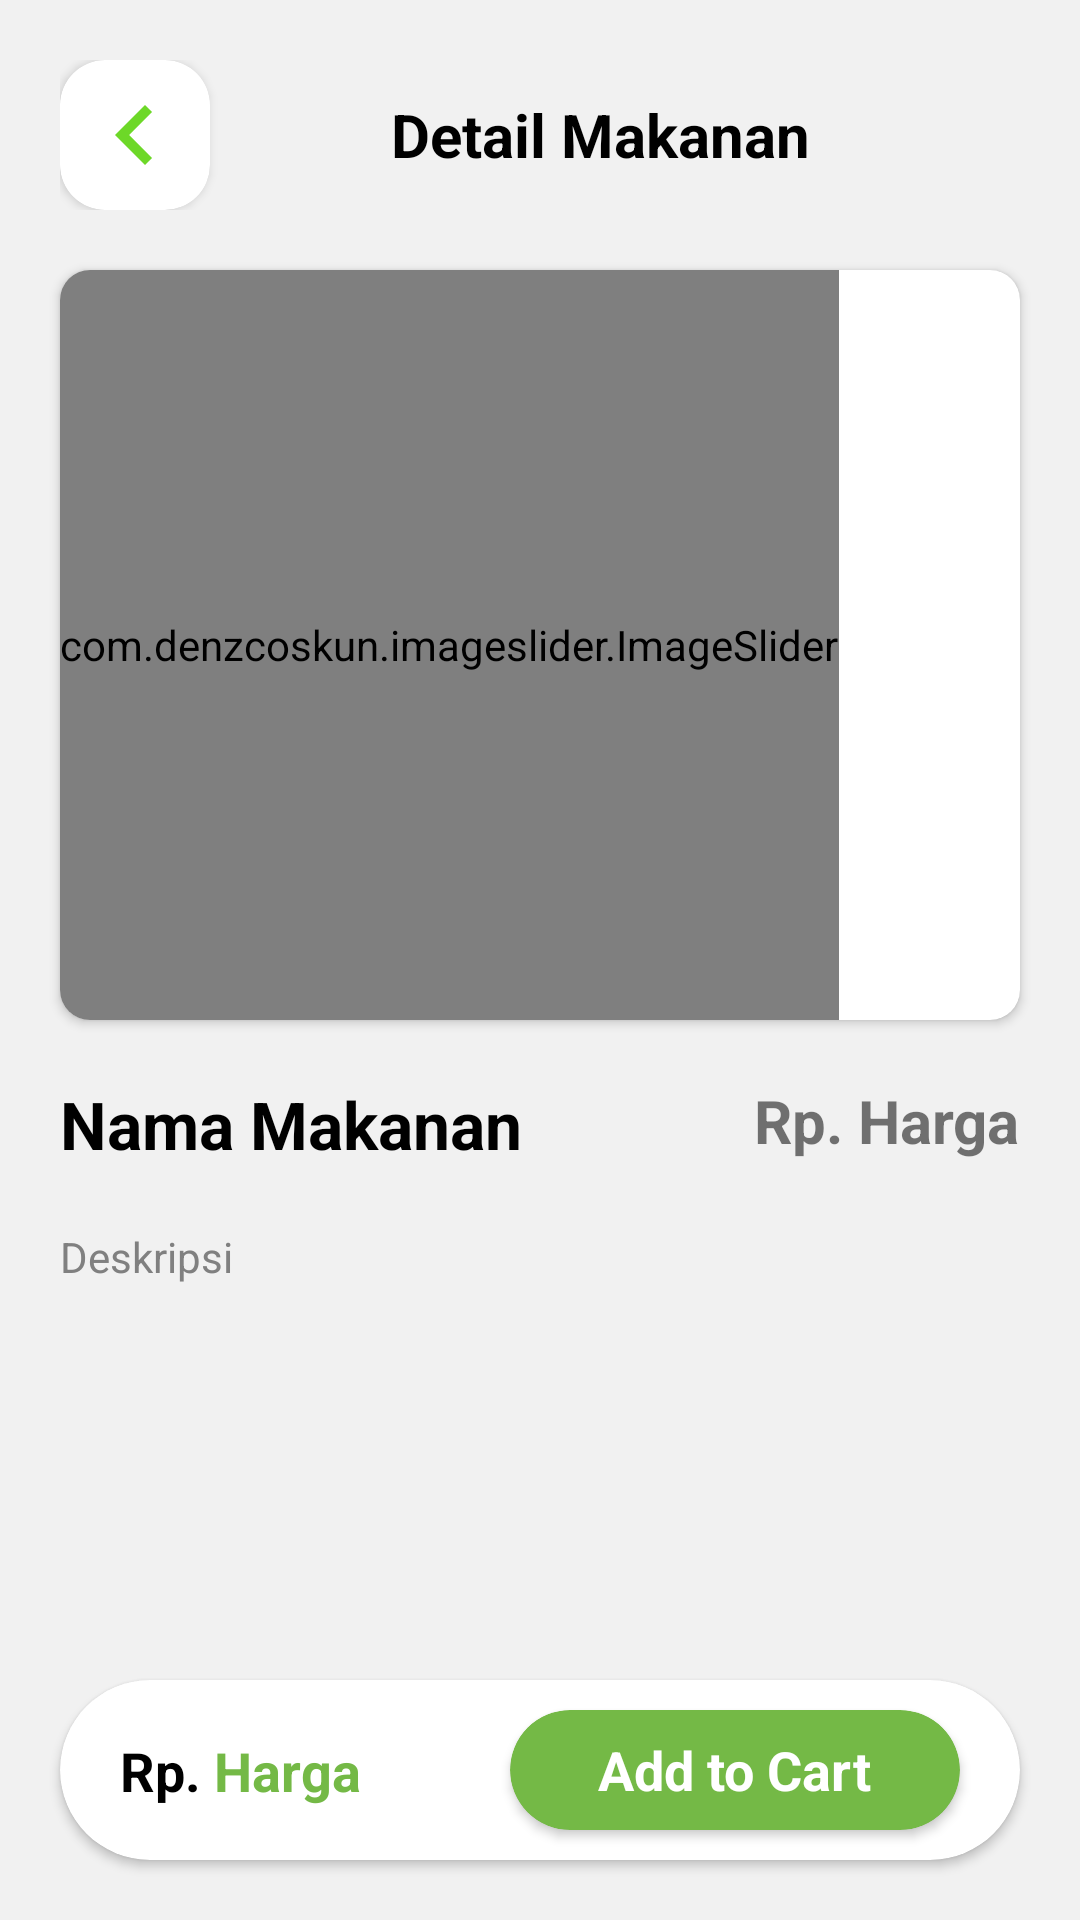

Icons on this 1080px x 1920px Android screen, each with the point to tap as point (x, y):
chevron left: point (133, 135)
